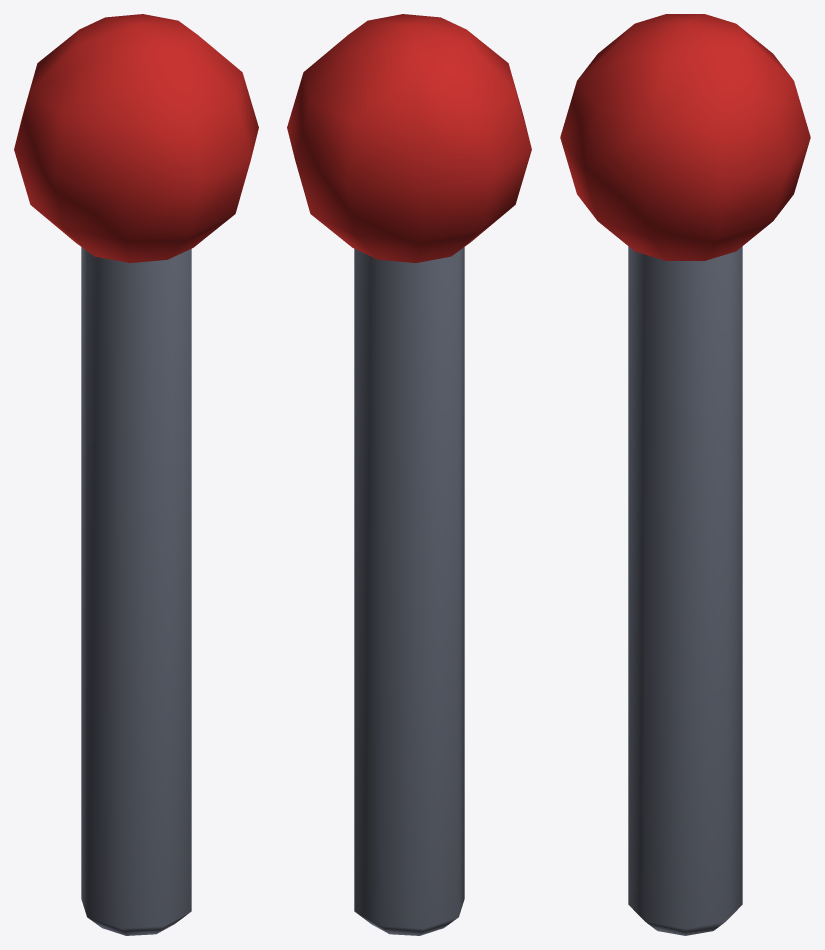
The model's file is SM_Station_Projector_Lever.fbx.
3 renders of one model, left to right at view 1: azimuth 30°, elevation 25°; view 2: azimuth 150°, elevation 25°; view 3: azimuth 270°, elevation 25°, orthographic.
Parts seen in each view (by area): view 1: SM_Station_Projector_Lever; view 2: SM_Station_Projector_Lever; view 3: SM_Station_Projector_Lever.
Part boxes in pixels (left/top/right/bottom): SM_Station_Projector_Lever: left=14, top=14, right=258, bottom=935; SM_Station_Projector_Lever: left=287, top=14, right=531, bottom=935; SM_Station_Projector_Lever: left=560, top=14, right=810, bottom=935.
Size of the model in its own units: 10.51 by 43.54 by 11.05.
